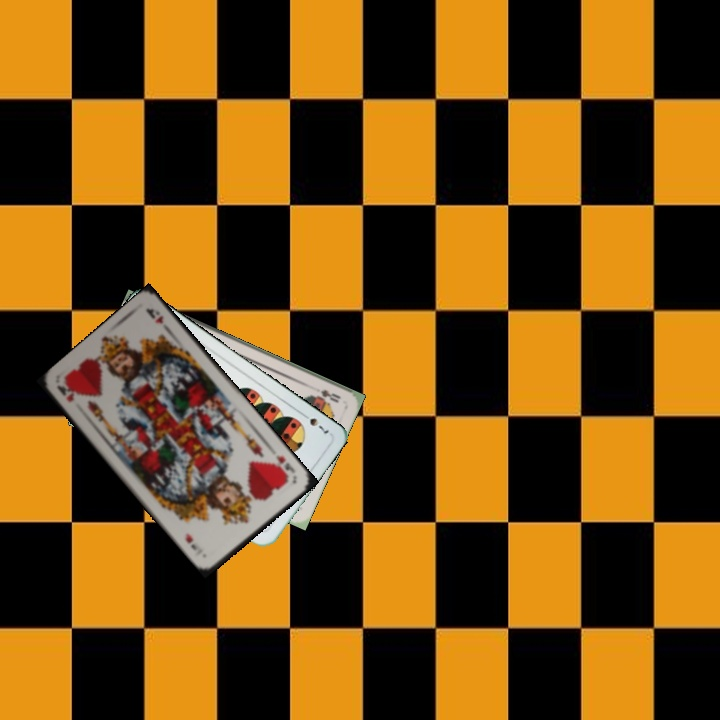HK: (272, 451, 298, 475), (53, 378, 77, 404)
S7: (297, 408, 332, 436)
SO: (313, 386, 343, 405)
